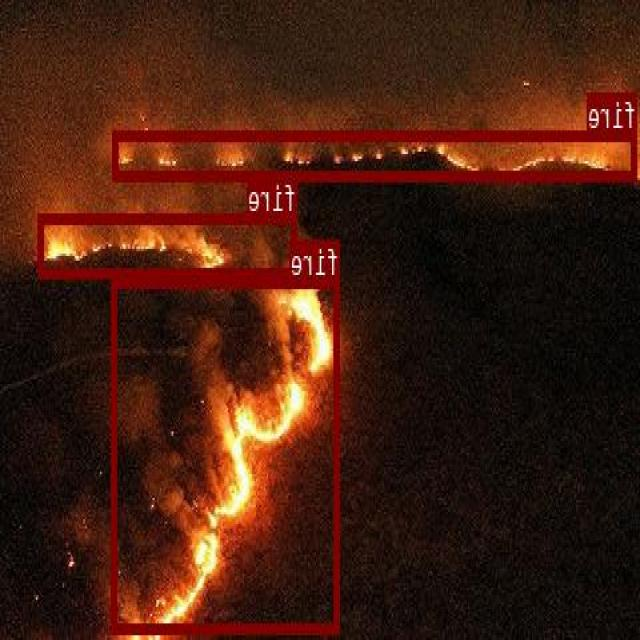fire: (112, 276, 341, 631), (113, 129, 638, 179), (40, 213, 298, 277)
